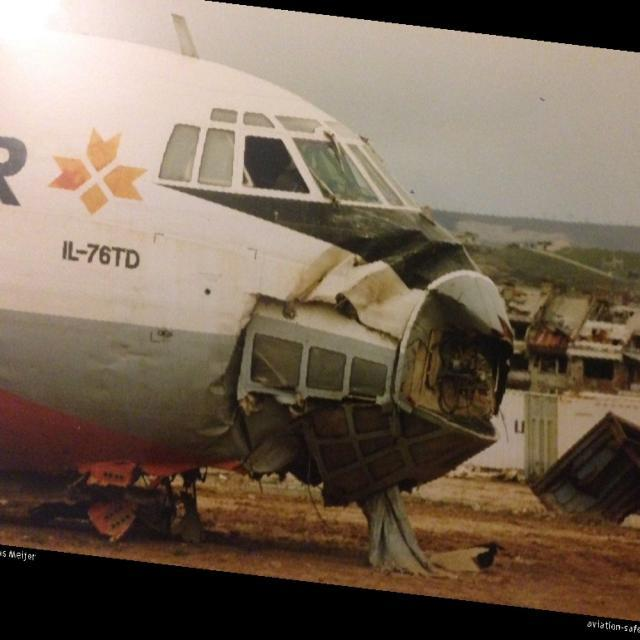dent: (200, 375, 236, 443)
